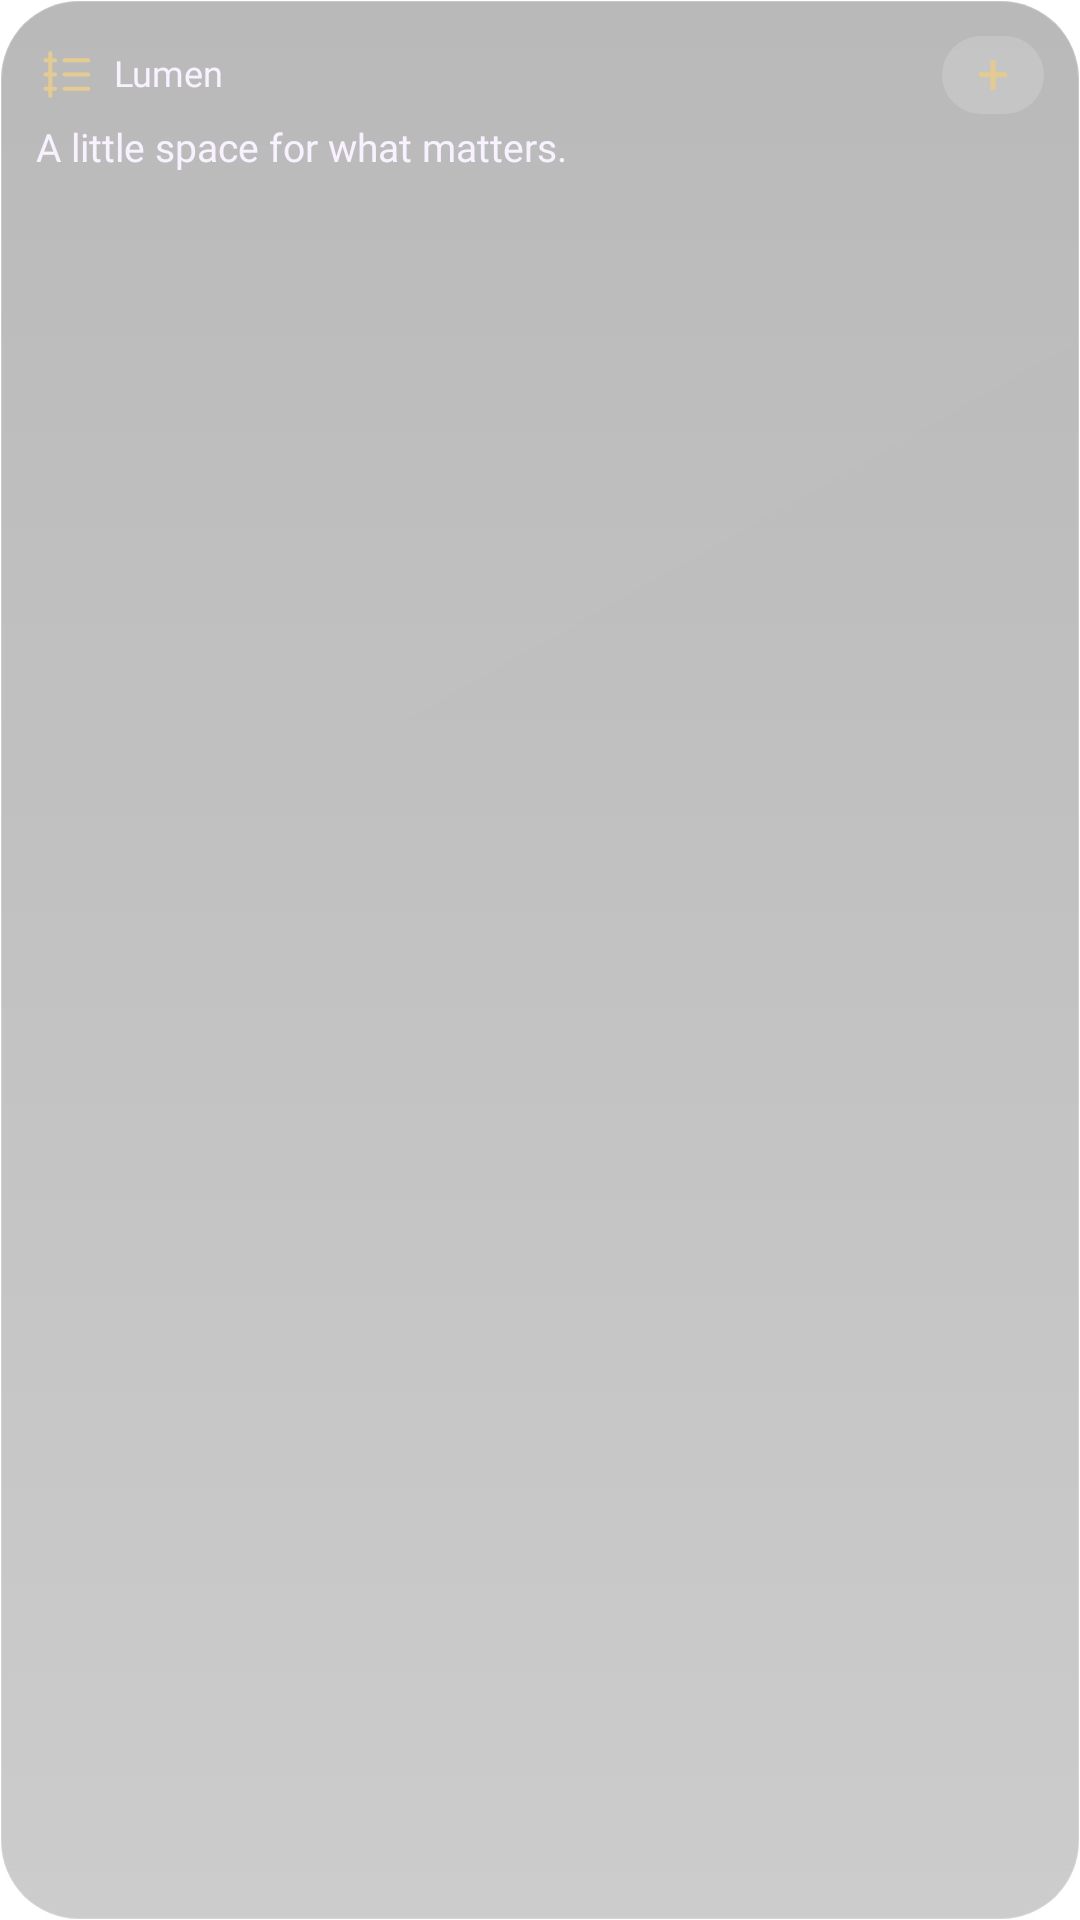

Icon click points for this 1080*1920 phone screenshot, format (x=x, y=y):
widget tasks: (x=67, y=74)
